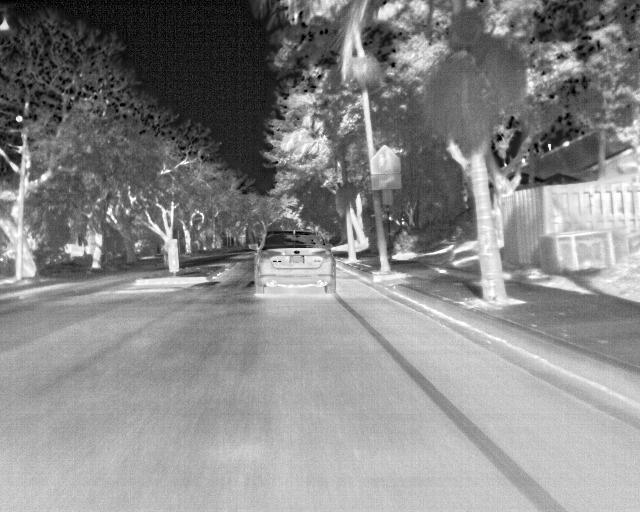car: (252, 228, 336, 298)
